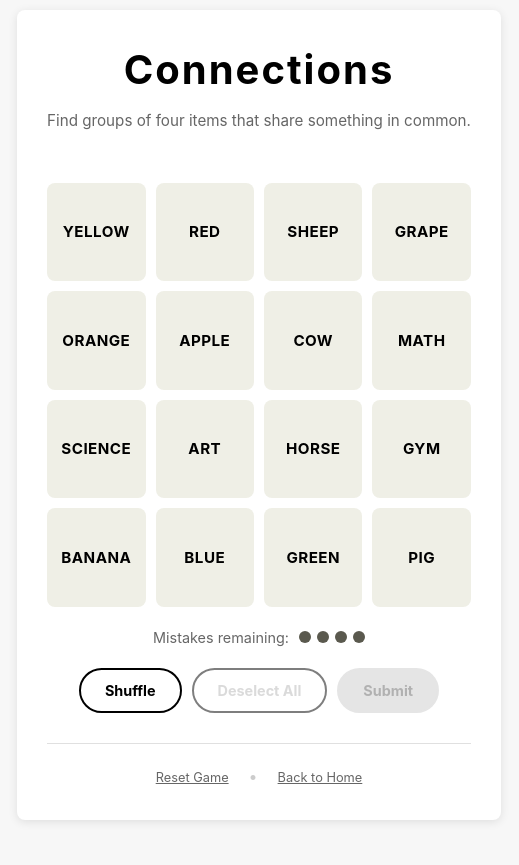
Test: App › should show feedback on correct answer
The image size is (519, 865).
Click the button "Cow" at (313, 340), box [264,291,362,390]
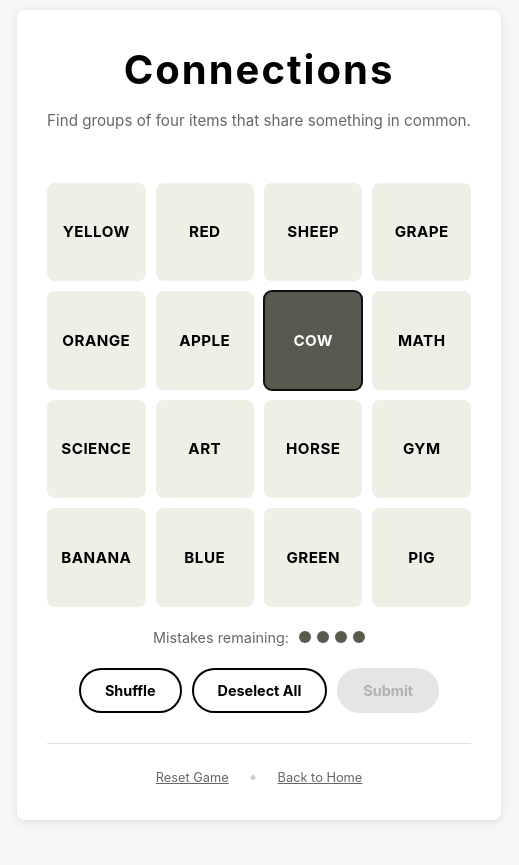
Click the button "Pig" at (422, 557), box [372,508,471,607]
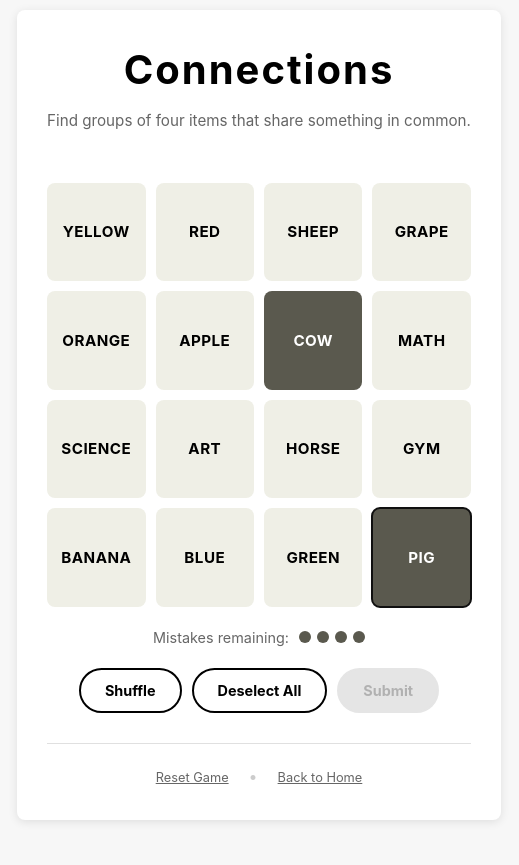
Click the button "Sheep" at (313, 232), box [264,183,362,281]
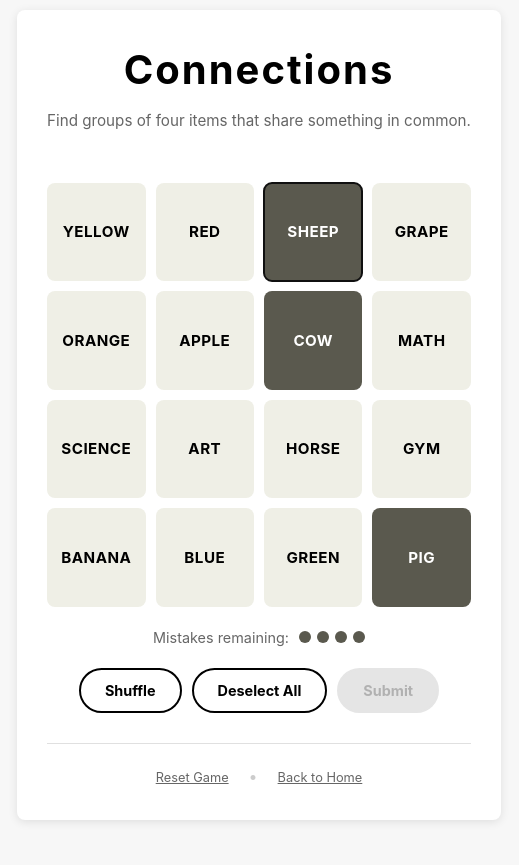
Click the button "Horse" at (313, 449), box [264,400,362,498]
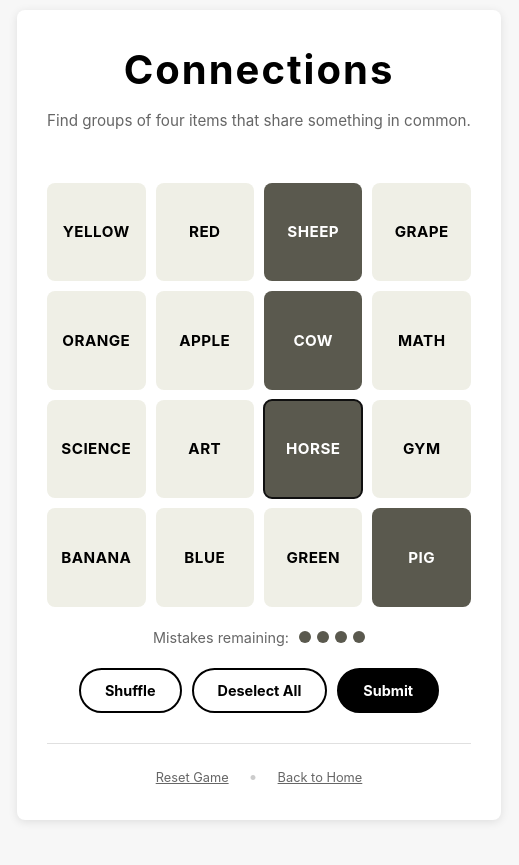
Click the button "Submit" at (388, 691), box [337,668,439,713]
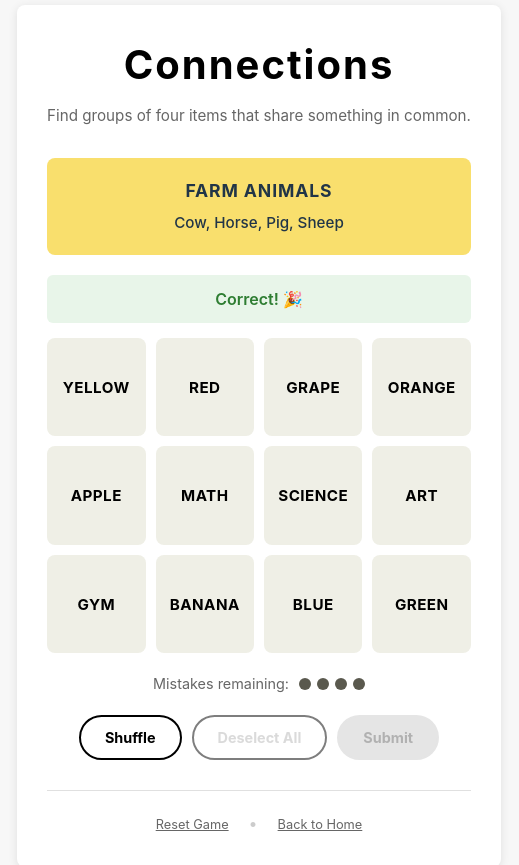
Expected: the text "Correct! 🎉" is shown, [47,275,471,323]
